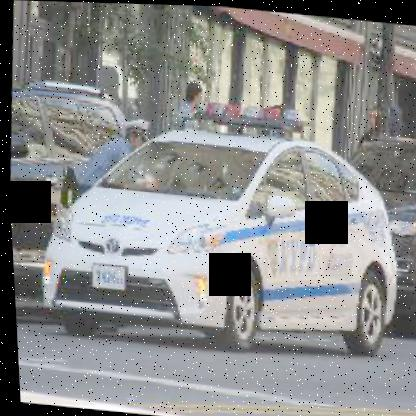emergency: (23, 75, 415, 382)
